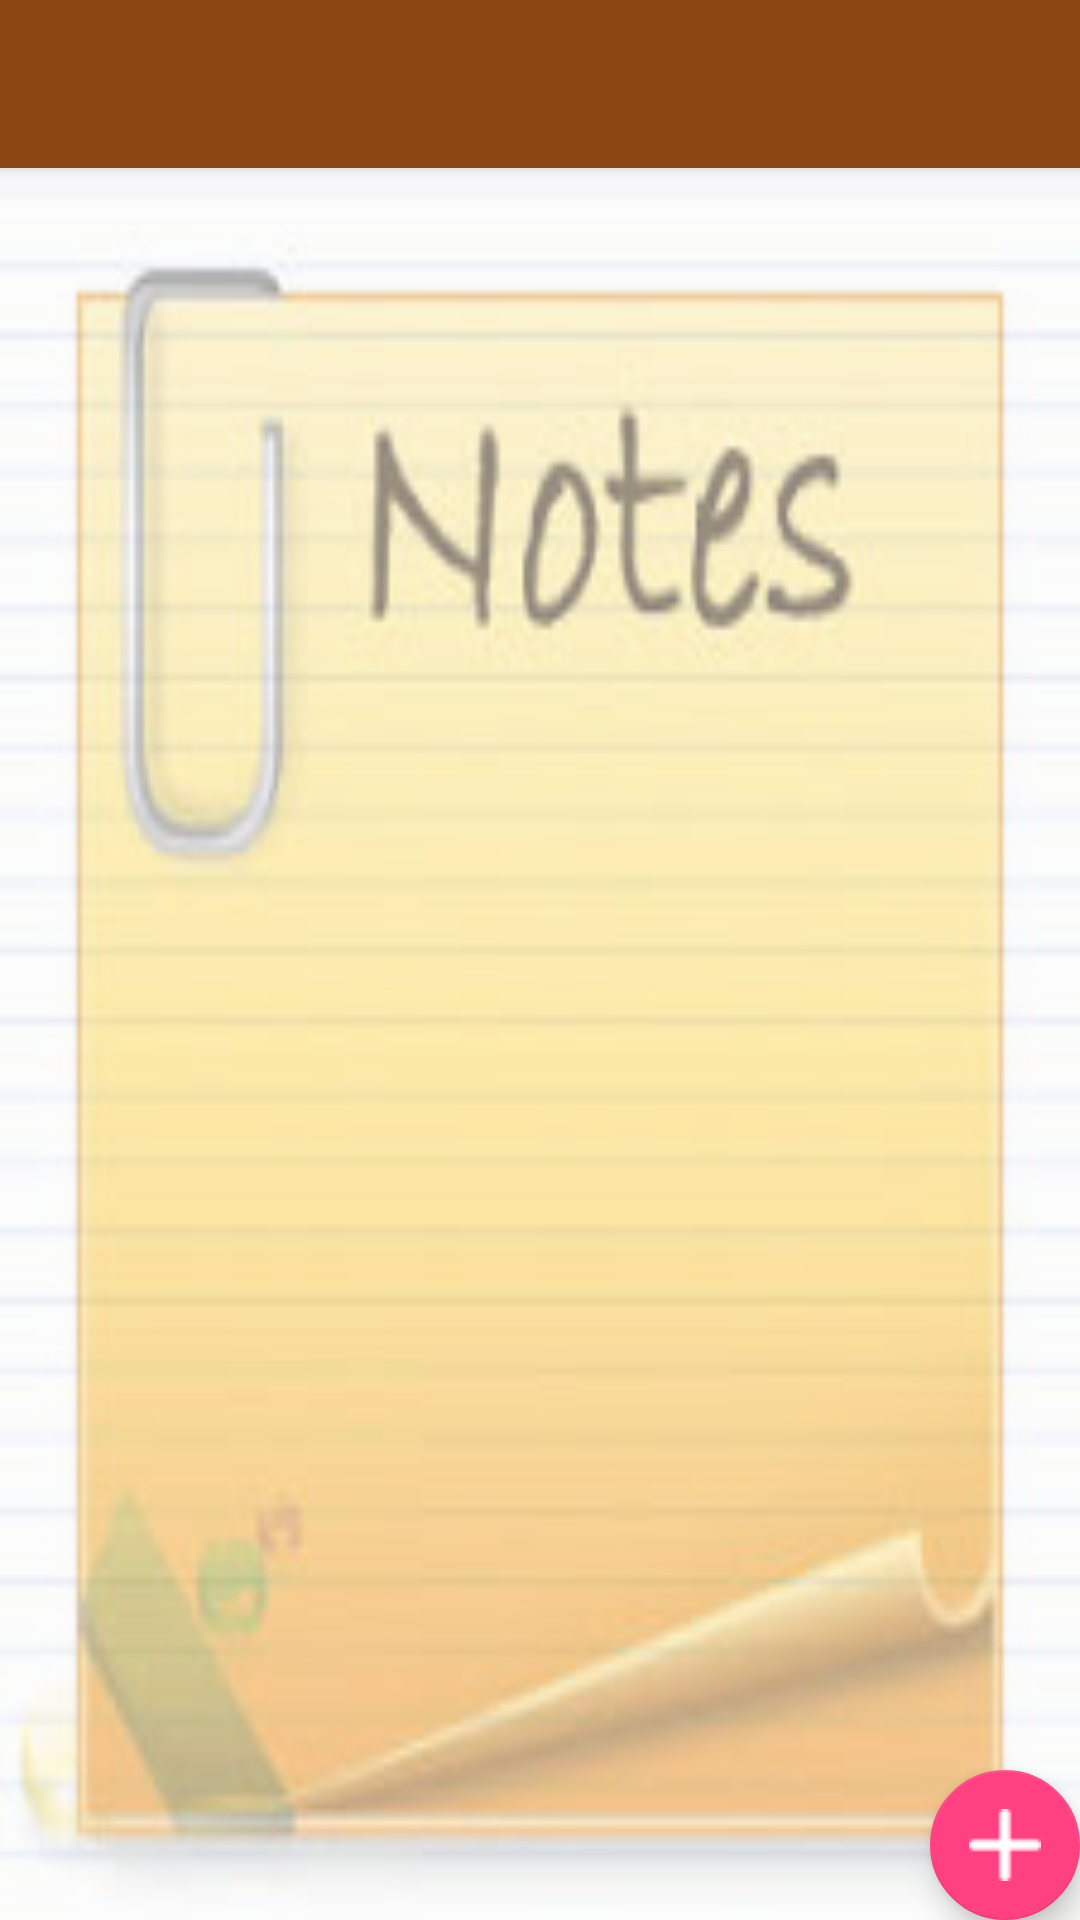

Icons on this 1080x1920 Android screen, each with the point to tap as [x,y]:
add: [1005,1845]
